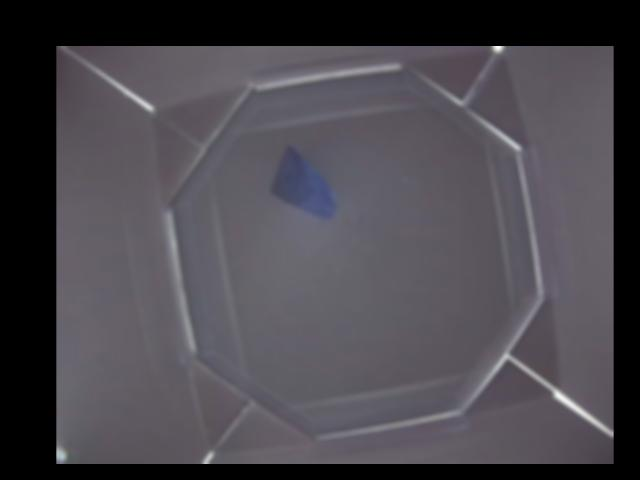Mooli: (274, 145, 335, 222)
